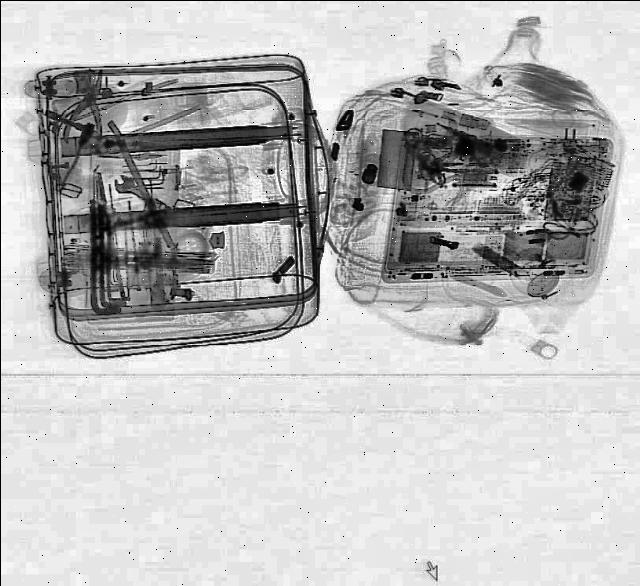Wrench: (110, 171, 168, 212)
